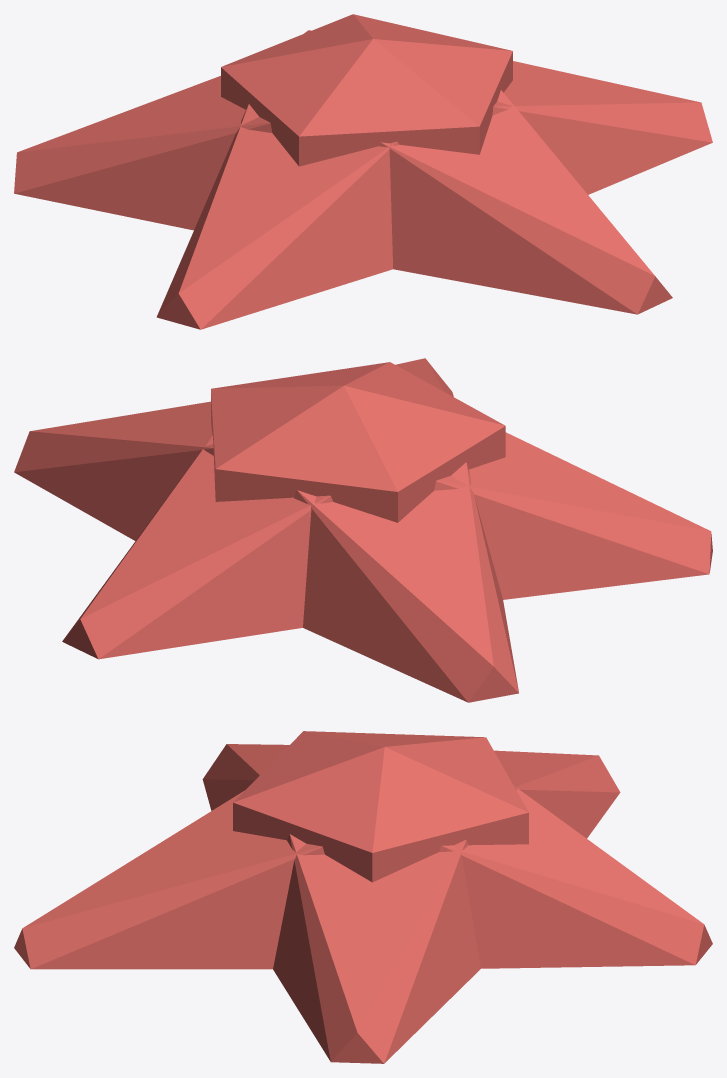
The model's file is Starfish_1.glb.
3 views of the same model, one above another, from view 1: azimuth 30°, elevation 25°; view 2: azimuth 150°, elevation 25°; view 3: azimuth 270°, elevation 25° (orthographic). The views are drawn at different scales.
Visible parts, largest first — view 1: Starfish_1; view 2: Starfish_1; view 3: Starfish_1.
Part boxes in pixels (x1,y1,x2,y2): Starfish_1: (14,14,712,329); Starfish_1: (14,358,712,702); Starfish_1: (14,731,712,1063).
Size of the model in its own units: 0.313 by 0.08 by 0.3138.
